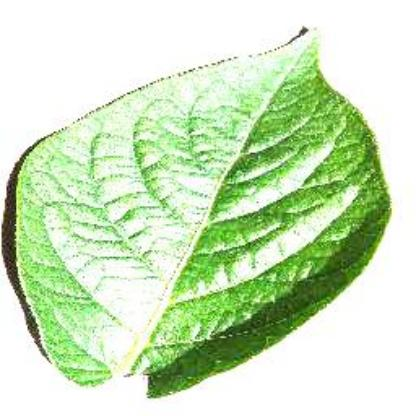Healthy-plant: (12, 22, 404, 402)
